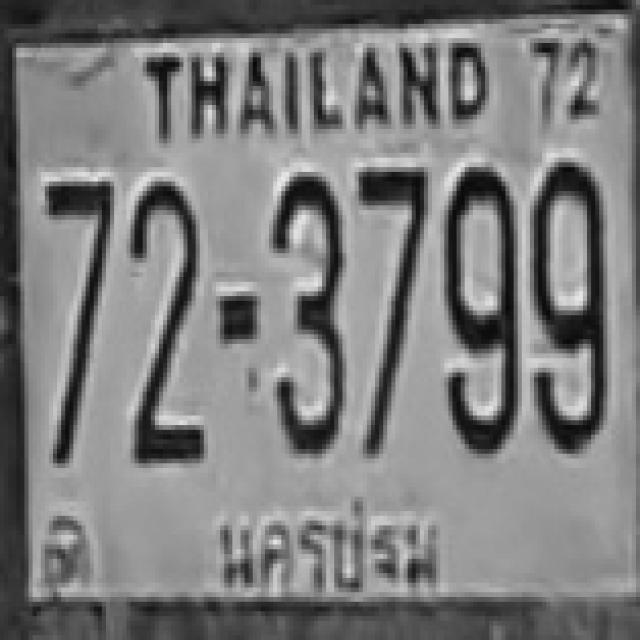0: (440, 162, 514, 349), (528, 158, 601, 339)
3: (269, 170, 342, 452)
7: (357, 162, 426, 334), (45, 176, 110, 348)
9: (442, 229, 516, 449)
NakhonPathom: (200, 490, 460, 616)
